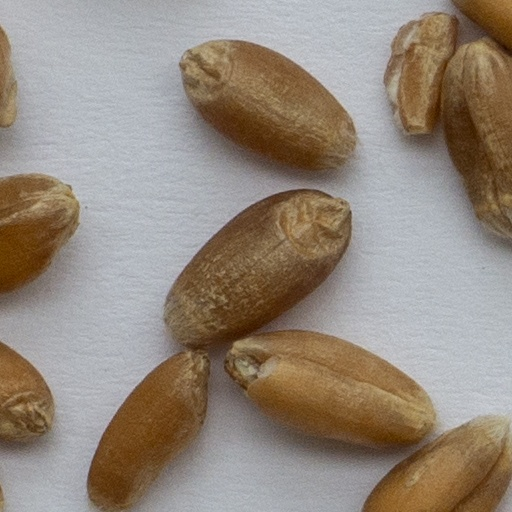Wheat-grain-damaged-poly: (379, 13, 460, 149)
